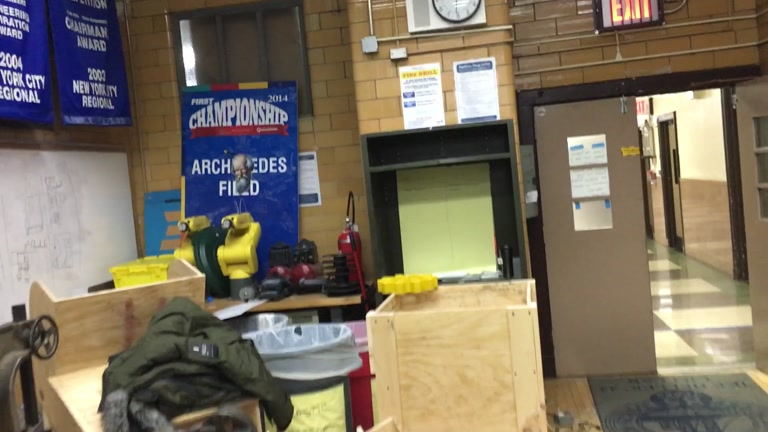gear: (376, 270, 438, 296)
